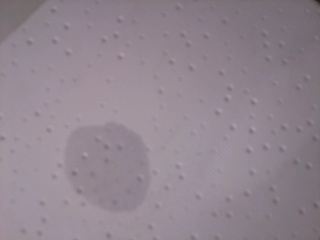Water_detected: (74, 129, 137, 203)
